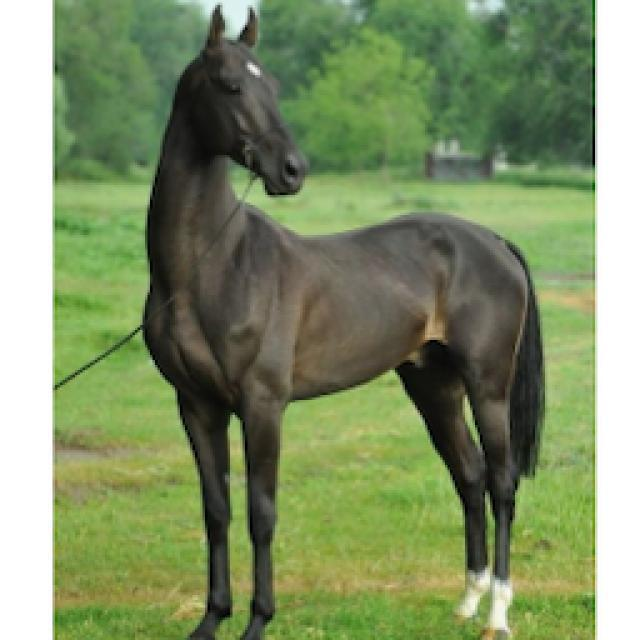Horse: (130, 0, 552, 638)
